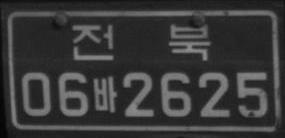0: (21, 71, 51, 116)
2: (198, 70, 231, 118), (122, 70, 154, 118)
5: (235, 71, 268, 118)
6: (159, 70, 191, 117), (57, 71, 90, 116)
바: (92, 75, 117, 113)
전북_D: (71, 20, 211, 60)
